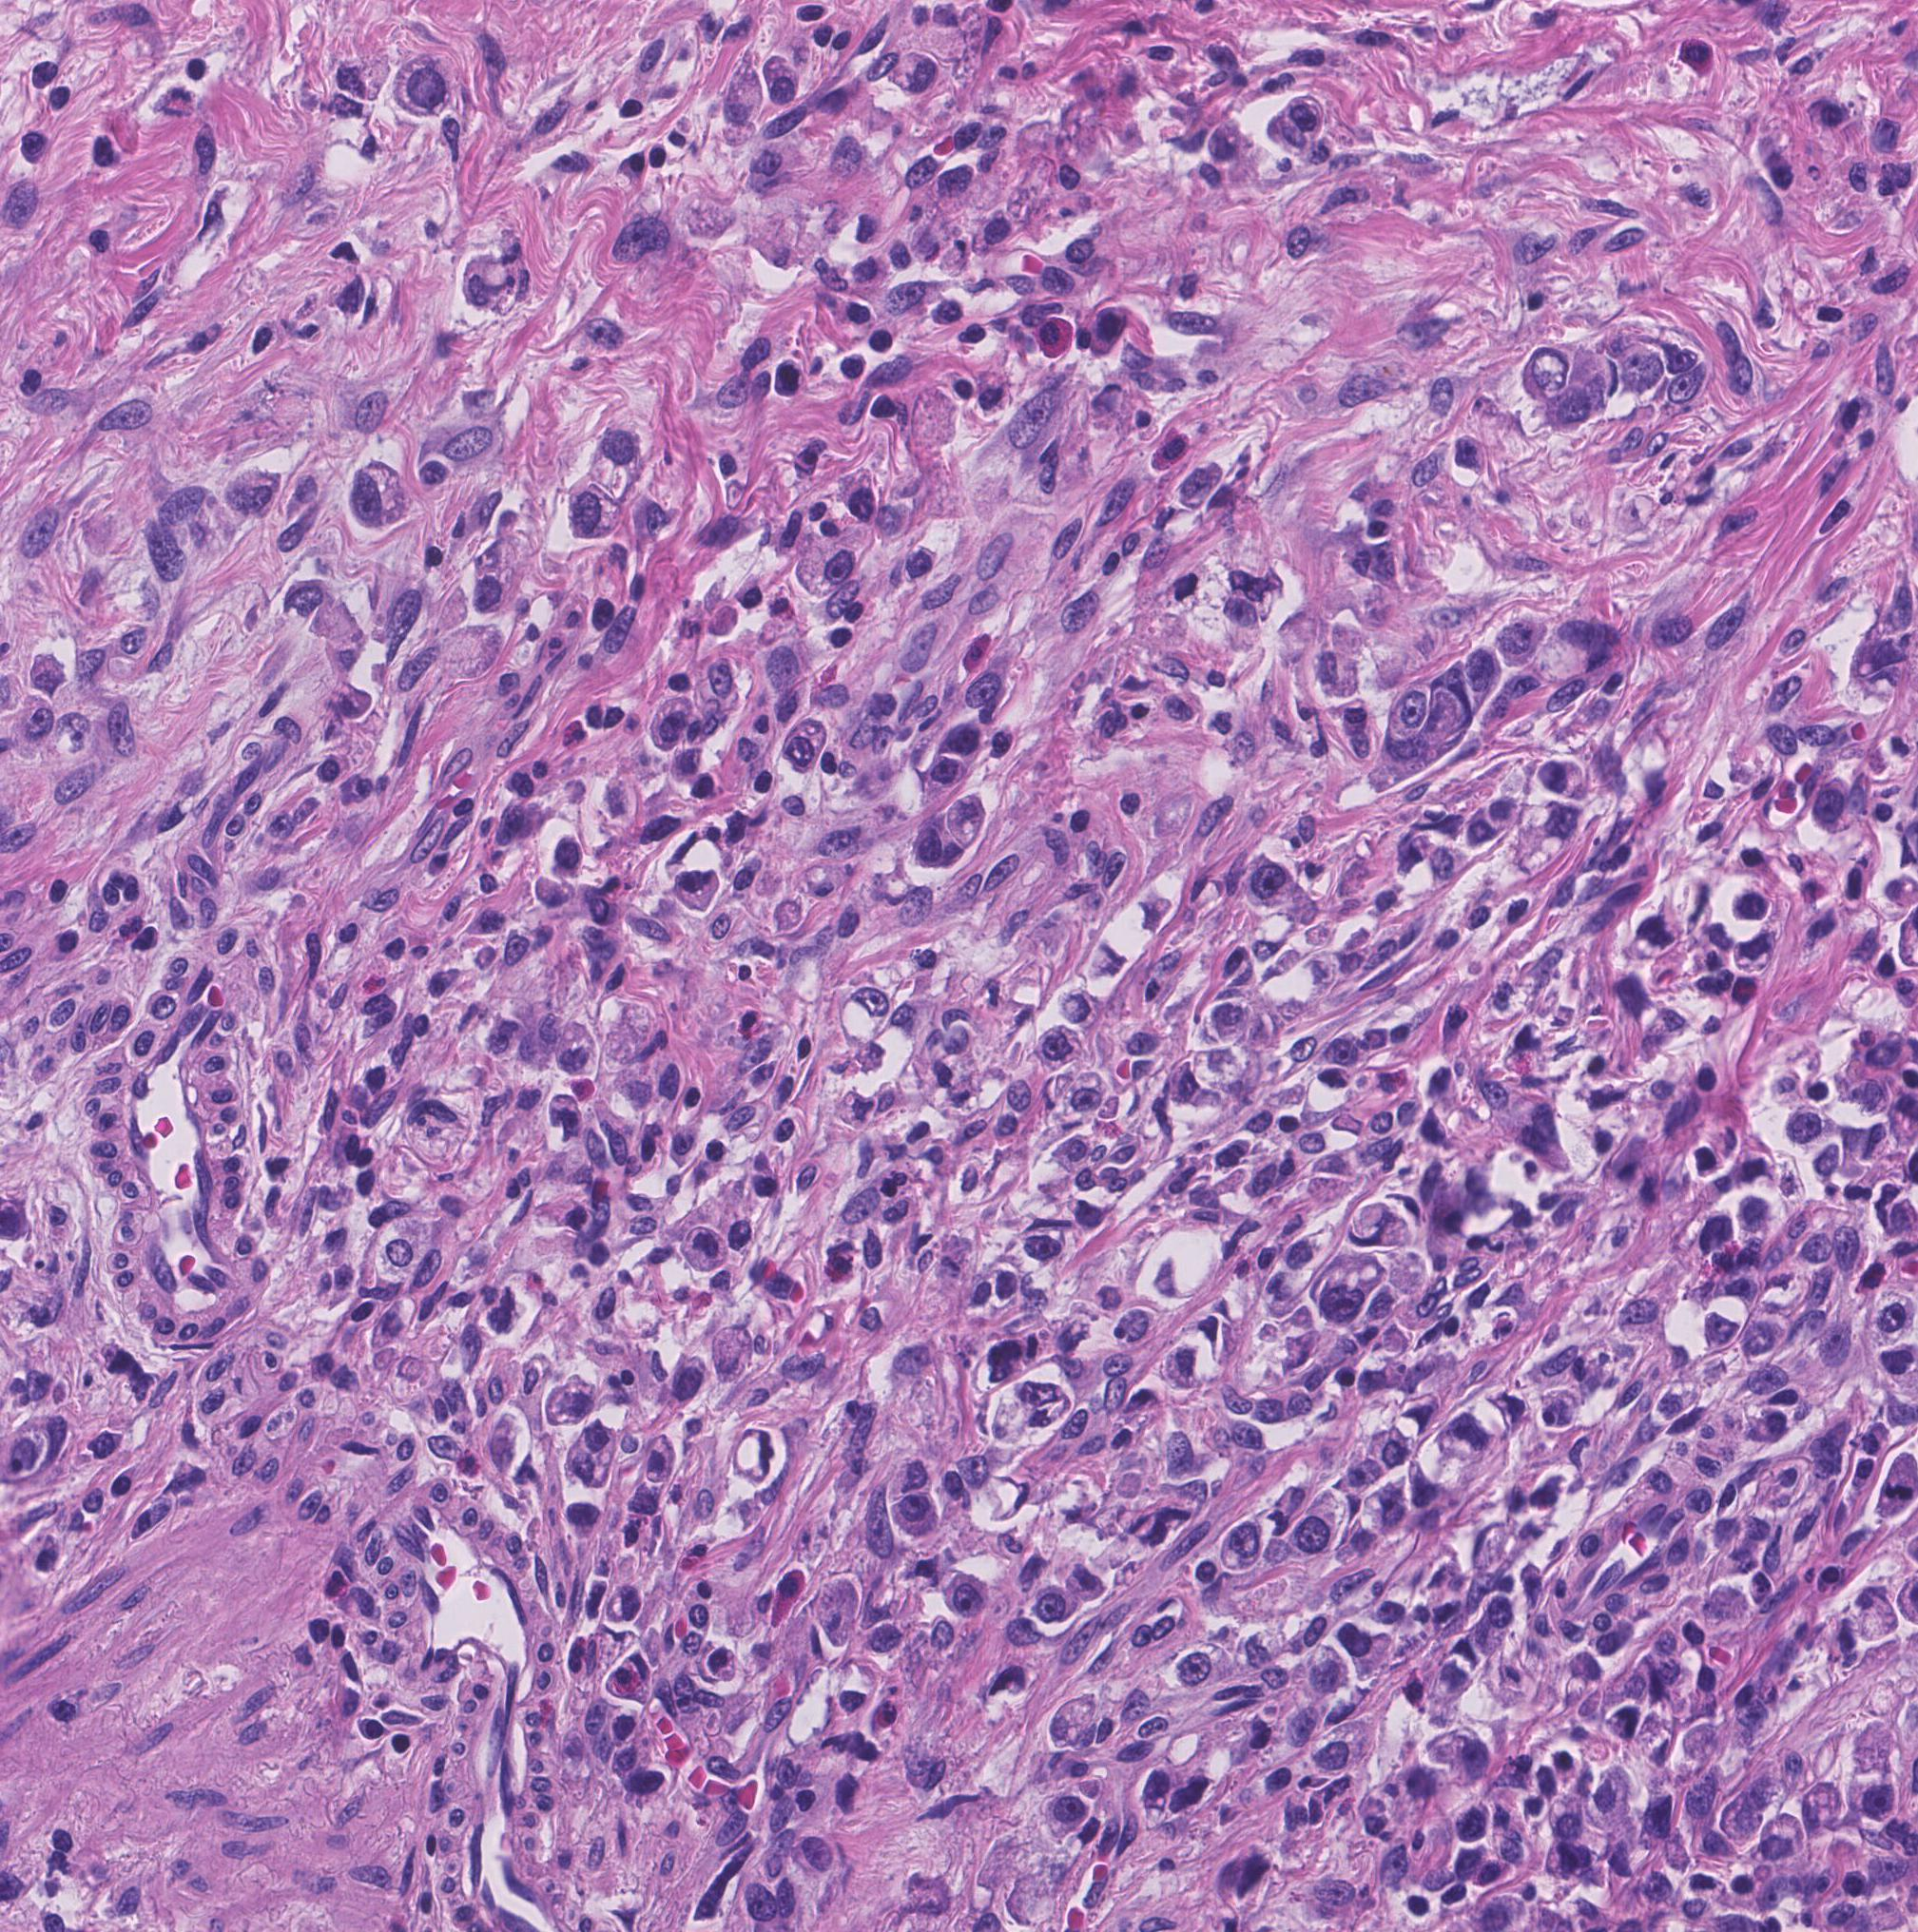ring_cell_cancer: (1365, 662, 1477, 789), (1244, 850, 1323, 929), (1316, 1249, 1386, 1333), (286, 576, 364, 652), (1553, 341, 1623, 423), (1433, 1407, 1502, 1477), (1212, 1841, 1275, 1911), (350, 457, 411, 529), (392, 60, 458, 123), (808, 1577, 862, 1654), (797, 539, 862, 601), (1586, 1765, 1637, 1842), (1349, 1196, 1412, 1258), (462, 256, 525, 318), (223, 462, 285, 522), (1043, 1695, 1105, 1755), (571, 479, 625, 543), (706, 1321, 755, 1389), (544, 1368, 601, 1428), (1851, 1582, 1904, 1646), (660, 1352, 713, 1416), (1296, 1493, 1345, 1560), (1431, 1725, 1489, 1781), (732, 1428, 783, 1491), (780, 711, 829, 776), (722, 63, 768, 132), (553, 1017, 602, 1080), (1196, 998, 1251, 1054), (21, 646, 77, 699), (1300, 1644, 1352, 1697), (1035, 1022, 1089, 1073), (1042, 1790, 1092, 1844), (606, 1653, 655, 1709), (1800, 1781, 1848, 1839), (1519, 346, 1567, 404), (546, 1089, 594, 1147), (841, 987, 891, 1042), (1221, 1516, 1268, 1572), (1493, 615, 1546, 664), (683, 1224, 731, 1279), (669, 866, 724, 913), (645, 697, 692, 752), (947, 792, 991, 850), (762, 56, 810, 109), (885, 53, 940, 98), (1282, 95, 1330, 146), (945, 1570, 991, 1623), (1720, 1791, 1765, 1844), (906, 818, 950, 873), (1725, 887, 1776, 933), (1089, 302, 1129, 355), (699, 1640, 743, 1688), (894, 1493, 938, 1539), (1537, 761, 1590, 797), (1035, 1584, 1080, 1626), (559, 1495, 604, 1537), (639, 1435, 674, 1482), (894, 1458, 931, 1498), (1059, 984, 1094, 1026), (1467, 803, 1496, 850)
